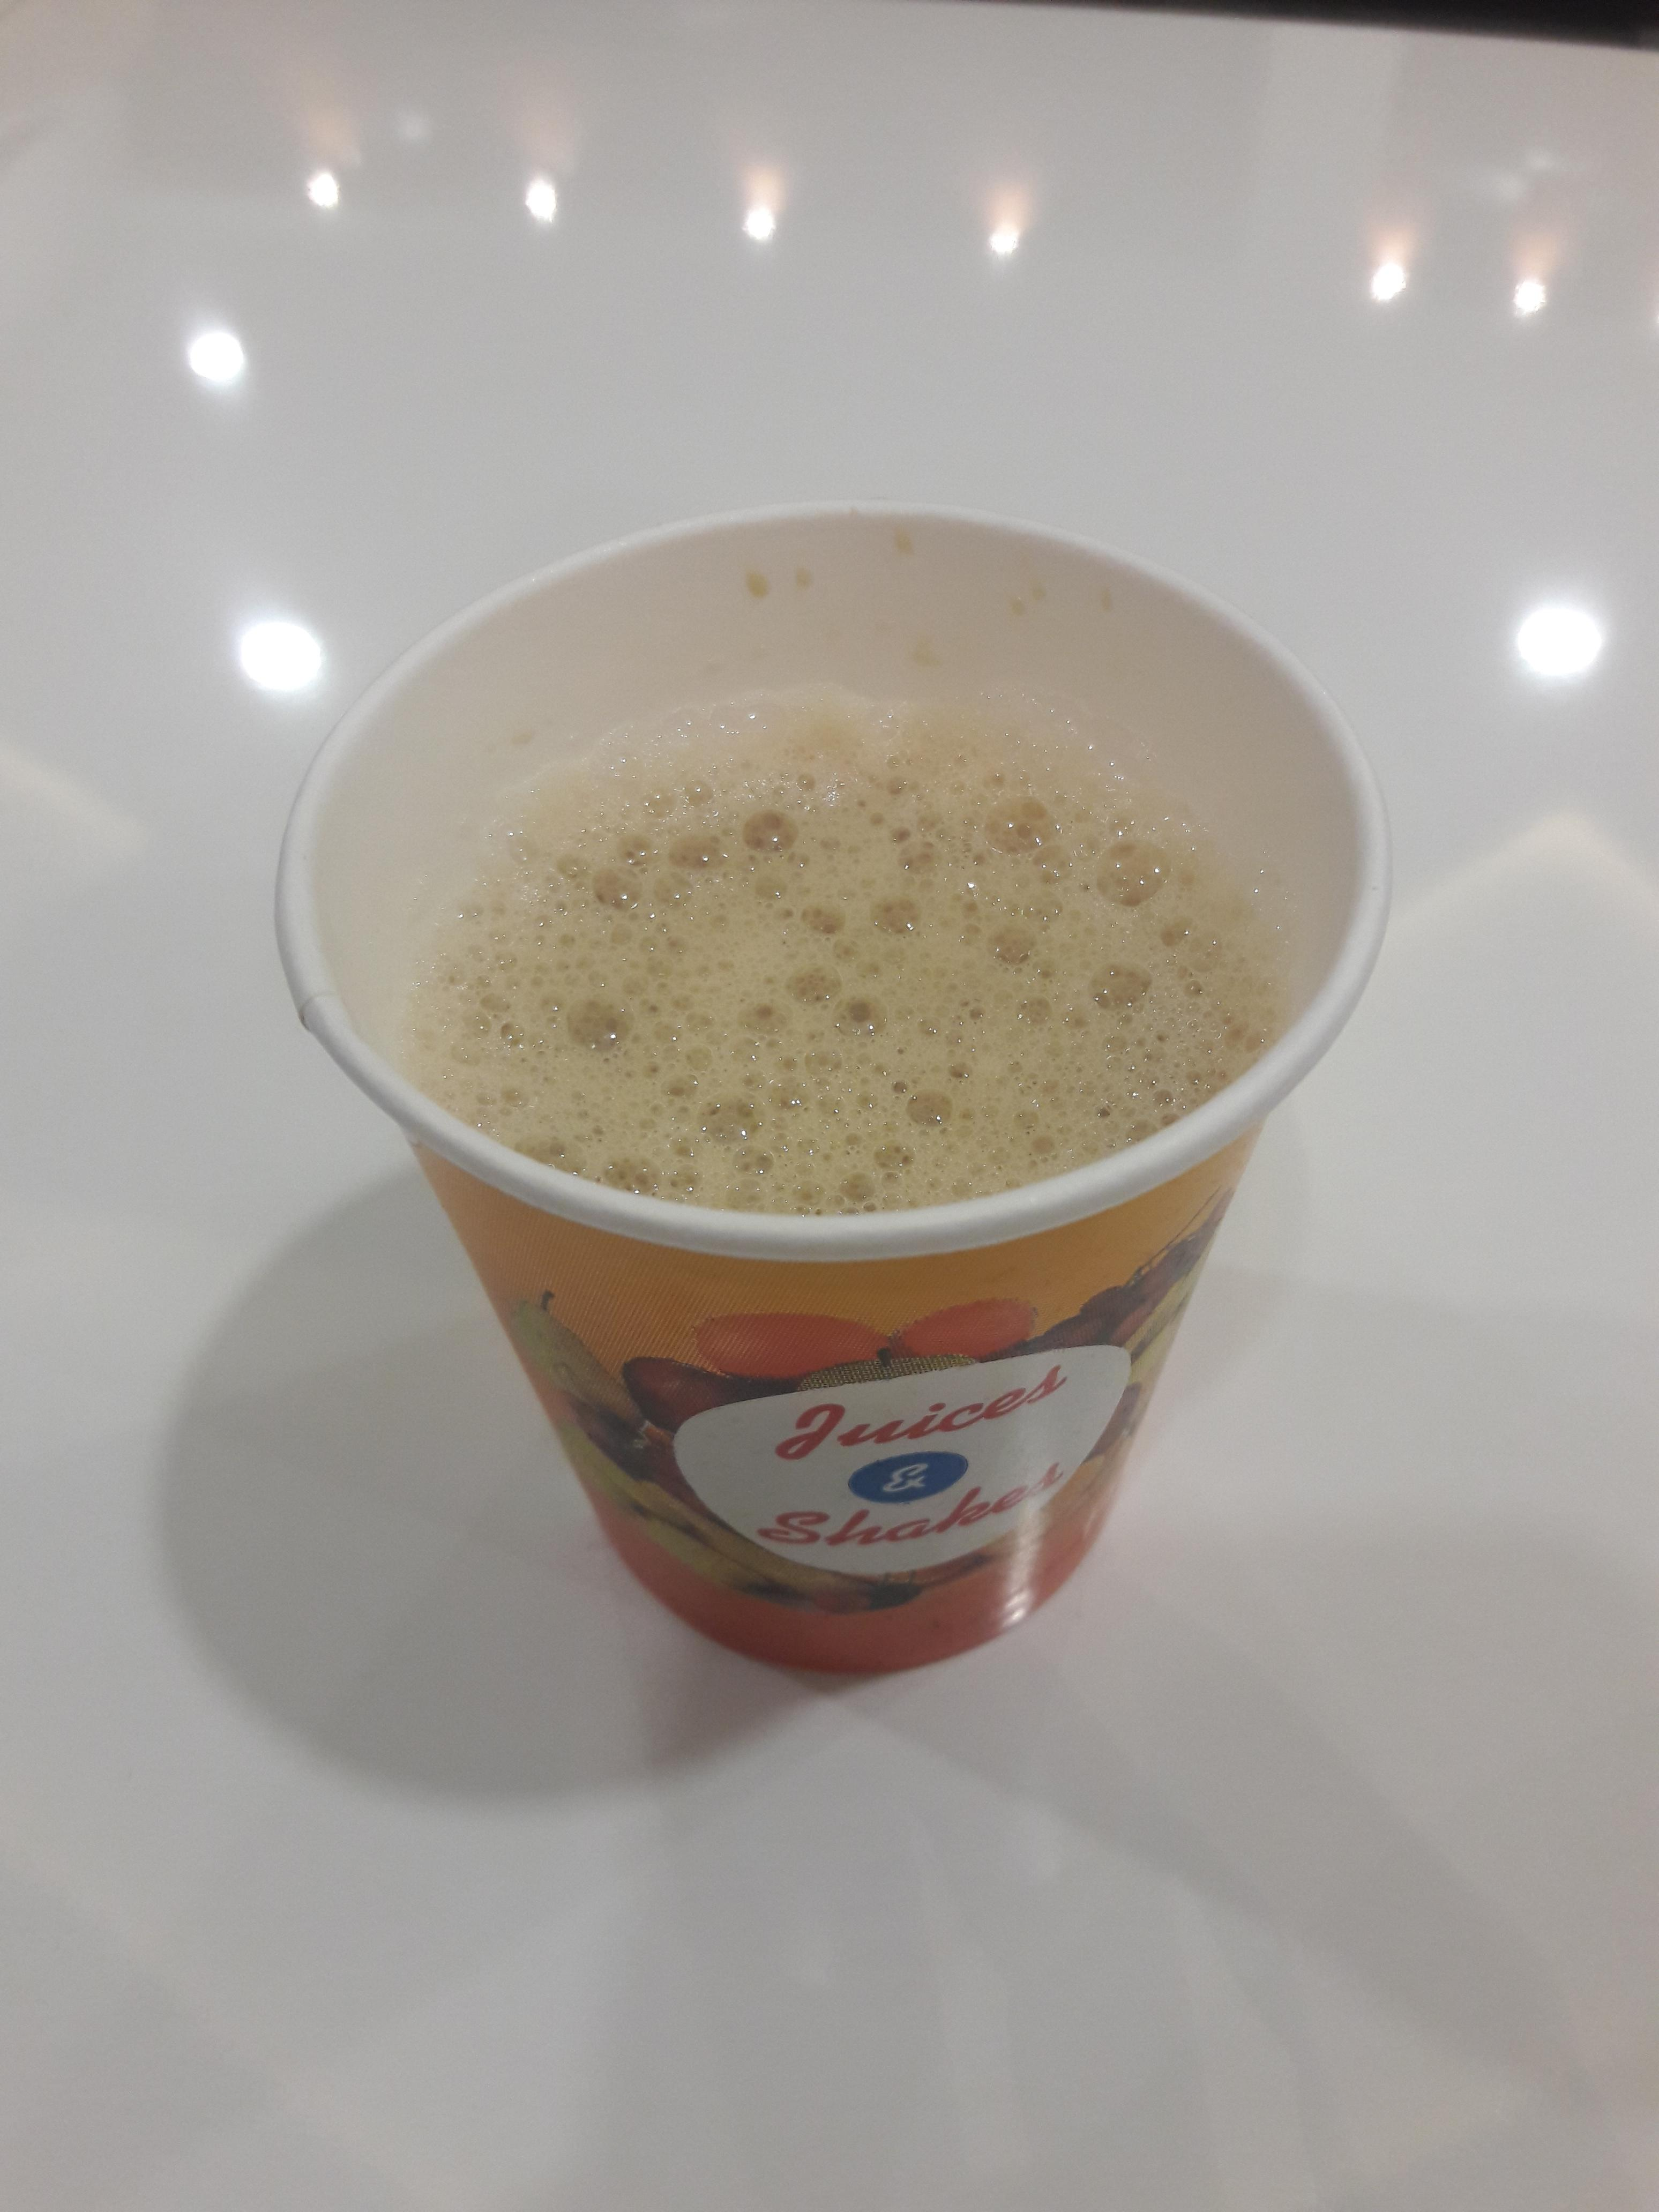trash: (267, 482, 1406, 1689)
